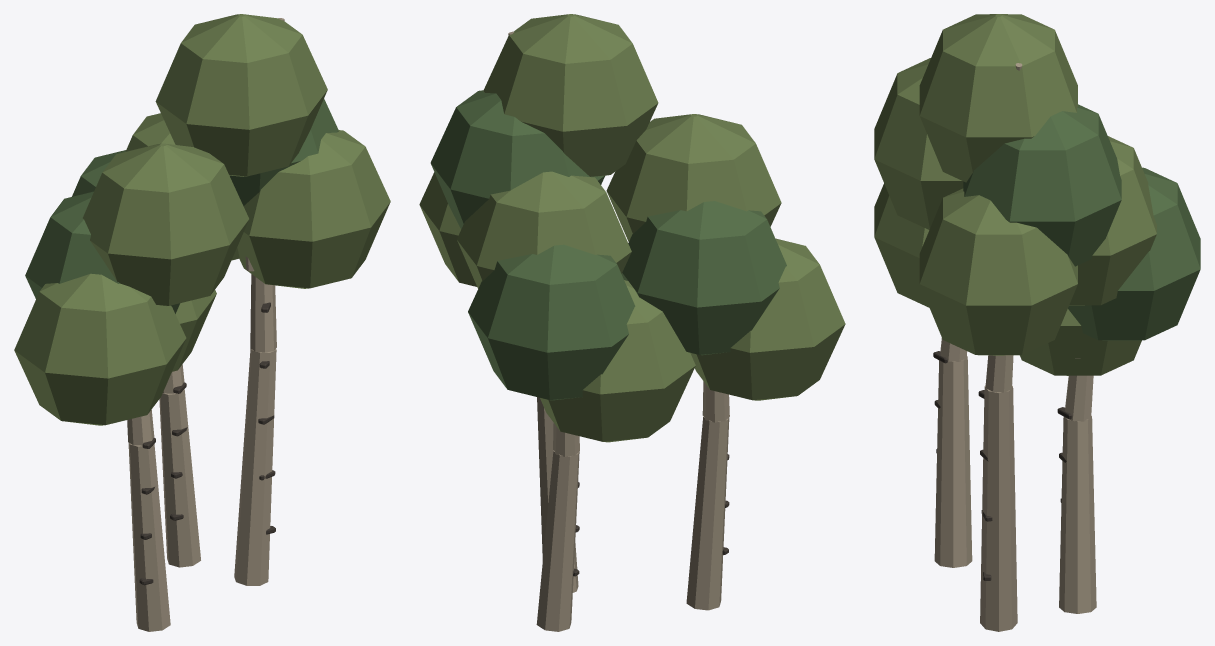
The model's file is NAT_V3_Tree_BirchGrove.glb.
The picture shows the model from 3 angles, left to right: view 1: azimuth 30°, elevation 25°; view 2: azimuth 150°, elevation 25°; view 3: azimuth 270°, elevation 25°; orthographic projection. The views are drawn at different scales.
Visible parts, largest first — view 1: NAT_V3_Tree_BirchGrove; view 2: NAT_V3_Tree_BirchGrove; view 3: NAT_V3_Tree_BirchGrove.
Part boxes in pixels (x1,y1,x2,y2): NAT_V3_Tree_BirchGrove: (14, 14, 390, 631); NAT_V3_Tree_BirchGrove: (419, 14, 845, 631); NAT_V3_Tree_BirchGrove: (874, 14, 1200, 631).
Size of the model in its own units: 2.68 by 3.97 by 1.94.
